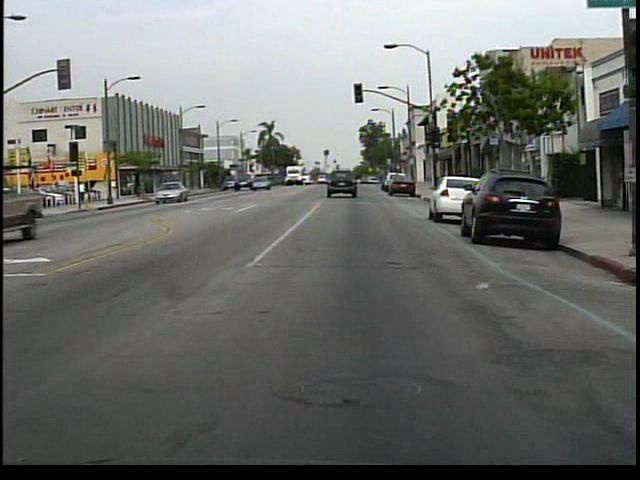person: (80, 179, 90, 206)
